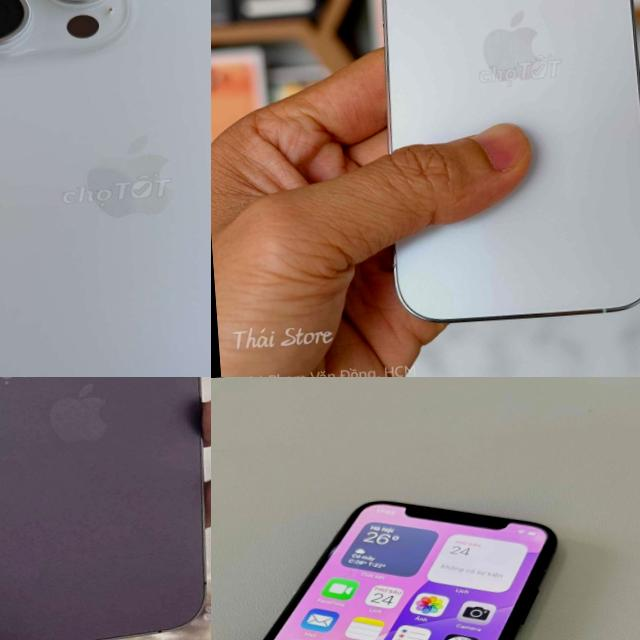gen_14: (361, 0, 640, 335), (0, 377, 211, 640)
gen_15: (0, 0, 211, 377)
gen_x_xs: (263, 501, 555, 640)
